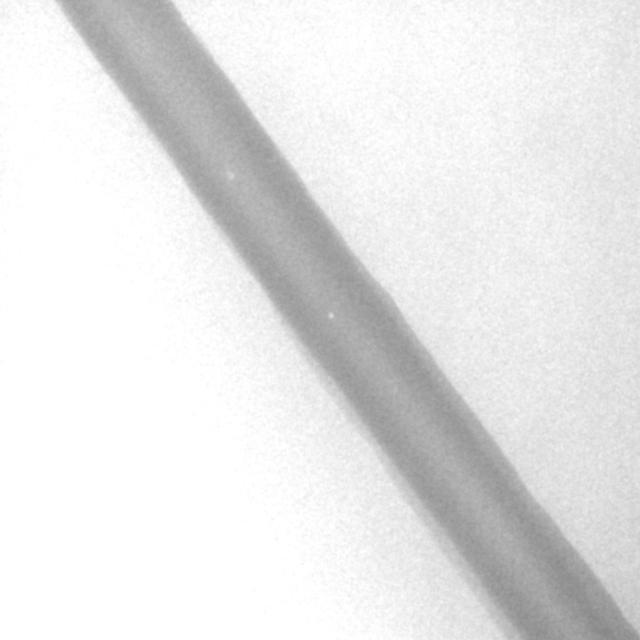air hole: (225, 169, 235, 183), (327, 310, 334, 321)
